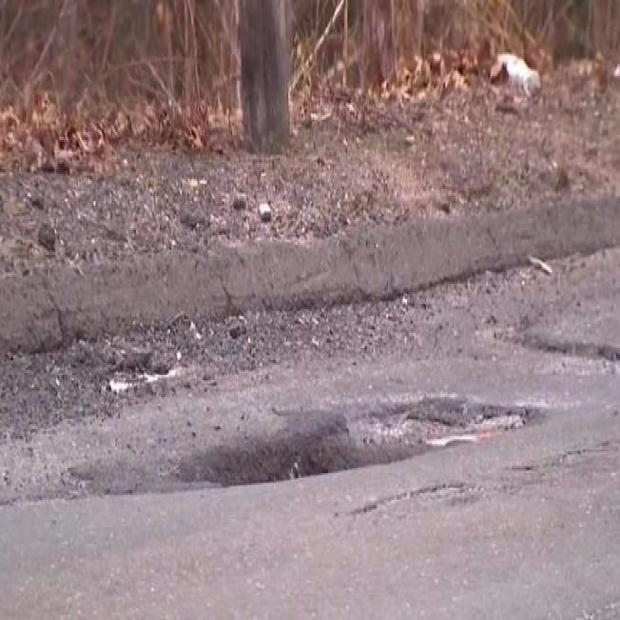lubang: (0, 385, 555, 502), (522, 339, 620, 384)
